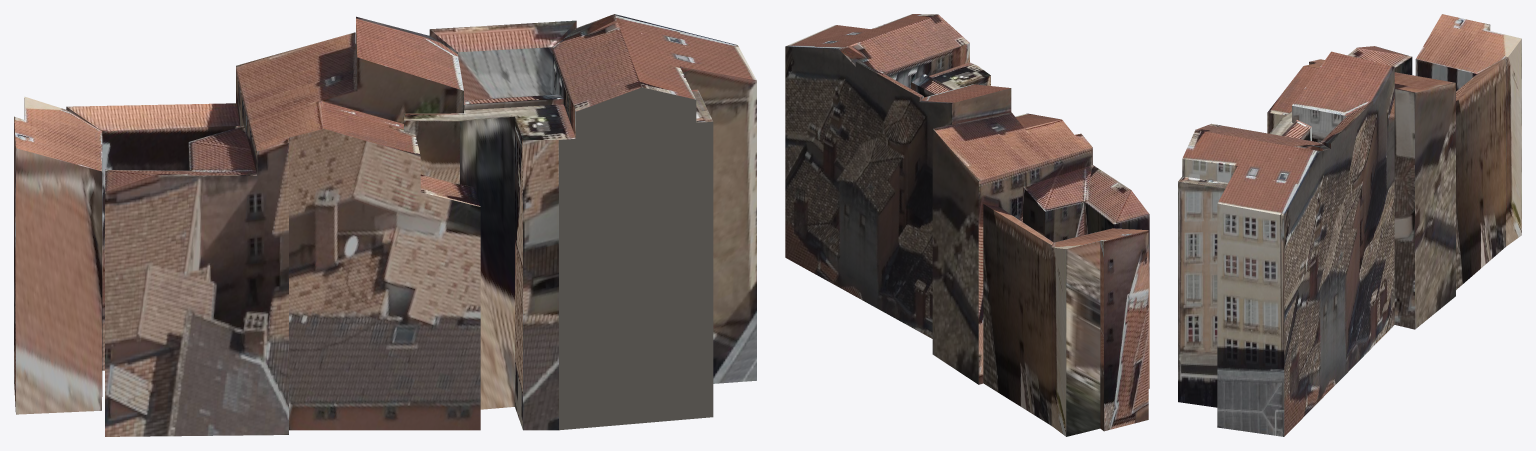
3 renders of one model, left to right at view 1: azimuth 30°, elevation 25°; view 2: azimuth 150°, elevation 25°; view 3: azimuth 270°, elevation 25°, orthographic. The views are drawn at different scales.
Parts seen in each view (by area): view 1: Z_UP; view 2: Z_UP; view 3: Z_UP.
Part boxes in pixels (x1,y1,x2,y2): Z_UP: [14, 14, 756, 436]; Z_UP: [785, 14, 1149, 436]; Z_UP: [1178, 14, 1521, 436].
Size of the model in its own units: 44.37 by 23.83 by 28.75.
Materials: 2 (1 with a texture image).
